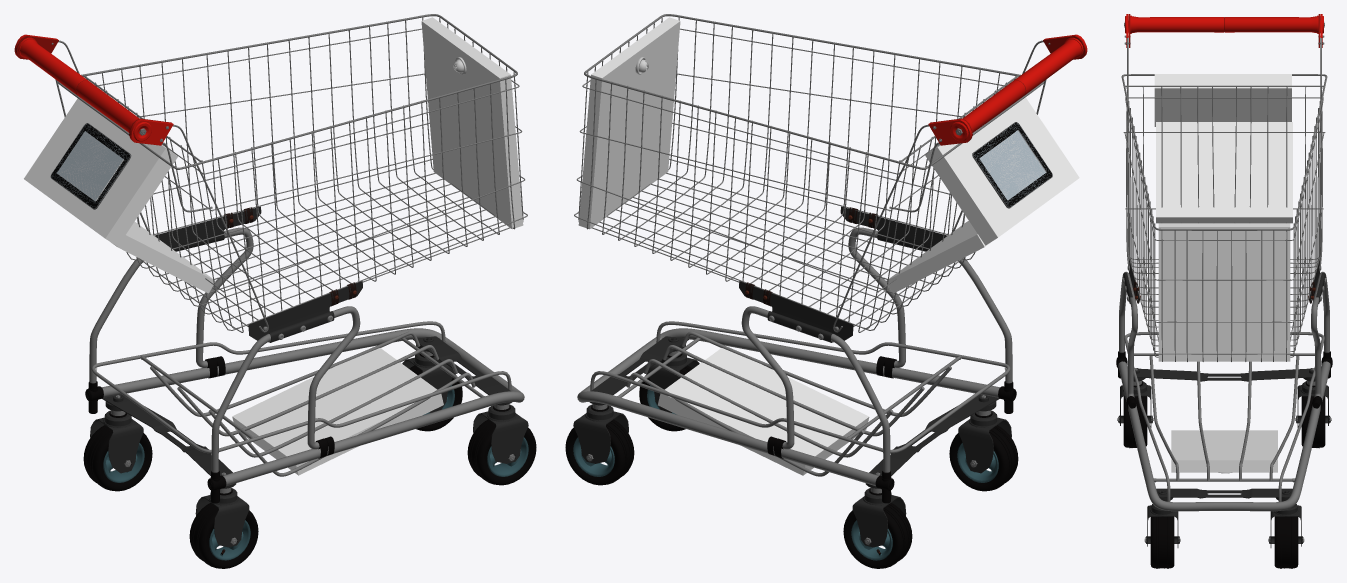
Rendered from Troll-E.fbx.
The picture shows the model from 3 angles, left to right: view 1: azimuth 30°, elevation 25°; view 2: azimuth 150°, elevation 25°; view 3: azimuth 270°, elevation 25°; orthographic projection. The views are drawn at different scales.
Parts seen in each view (by area): view 1: BezierCurve.020, Box, Box2, Box1, BezierCurve.004, BezierCurve, BezierCurve.003, Plane.001, BezierCurve.001, Cylinder.045, Plane.003, Cylinder.008 (+13 smaller); view 2: BezierCurve.020, Box, Box2, Box1, BezierCurve.004, BezierCurve, BezierCurve.003, Plane.001, BezierCurve.001, Cylinder.045, Plane.003, Cylinder.008 (+13 smaller); view 3: Box, Box3, BezierCurve.020, Box1, Box2, BezierCurve.004, Cylinder.008, Cylinder.028, BezierCurve, BezierCurve.003, Cylinder.045, Plane.006 (+11 smaller).
Boxes of the visible parts, x1,y1,x2,y2 form: BezierCurve.020: [57, 14, 527, 332]; Box: [421, 17, 523, 229]; Box2: [232, 348, 443, 475]; Box1: [24, 98, 177, 246]; BezierCurve.004: [102, 328, 524, 485]; BezierCurve: [89, 227, 360, 472]; BezierCurve.003: [150, 331, 475, 476]; Plane.001: [154, 206, 362, 342]; BezierCurve.001: [91, 321, 511, 453]; Cylinder.045: [83, 425, 258, 568]; Plane.003: [90, 417, 249, 547]; Cylinder.008: [20, 39, 151, 141]; BezierCurve.020: [574, 14, 1044, 332]; Box: [578, 17, 680, 229]; Box2: [658, 348, 869, 475]; Box1: [925, 97, 1079, 245]; BezierCurve.004: [577, 328, 999, 485]; BezierCurve: [741, 227, 1012, 472]; BezierCurve.003: [626, 331, 951, 476]; Plane.001: [739, 206, 947, 342]; BezierCurve.001: [590, 321, 1010, 453]; Cylinder.045: [843, 425, 1018, 568]; Plane.003: [852, 417, 1011, 547]; Cylinder.008: [950, 39, 1081, 141]; Box: [1158, 223, 1290, 361]; Box3: [1156, 122, 1292, 223]; BezierCurve.020: [1121, 74, 1327, 361]; Box1: [1154, 74, 1291, 126]; Box2: [1171, 430, 1277, 472]; BezierCurve.004: [1118, 361, 1330, 511]; Cylinder.008: [1125, 16, 1323, 33]; Cylinder.028: [1150, 516, 1298, 568]; BezierCurve: [1119, 271, 1329, 396]; BezierCurve.003: [1149, 356, 1299, 480]; Cylinder.045: [1123, 396, 1325, 447]; Plane.006: [1133, 368, 1315, 381].
Size of the model in its own units: 2.75 by 2.86 by 1.42.
